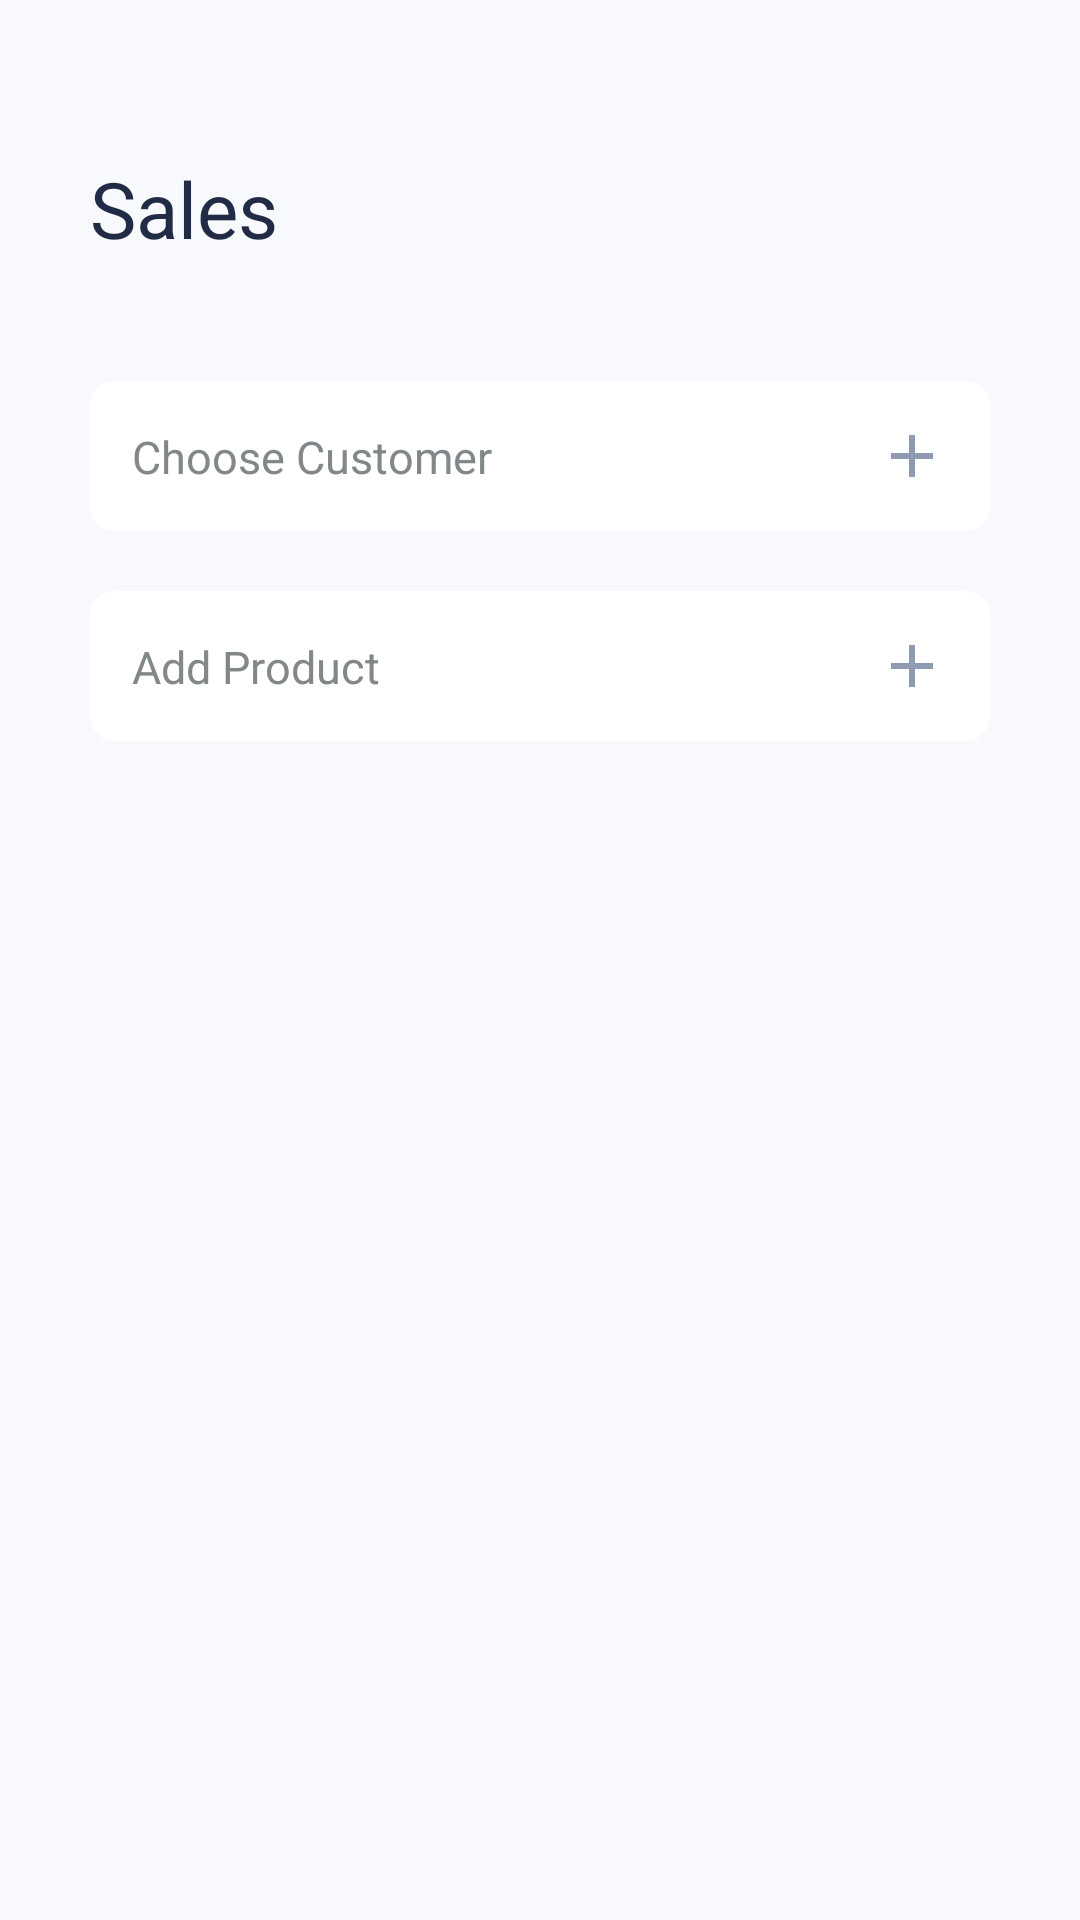

Where icons sit on this 1080w x 1920h app screen, as {"left": x1, "top": y1, "right": x2, "bottom": y2}:
add: {"left": 891, "top": 435, "right": 933, "bottom": 477}, {"left": 891, "top": 645, "right": 933, "bottom": 687}
